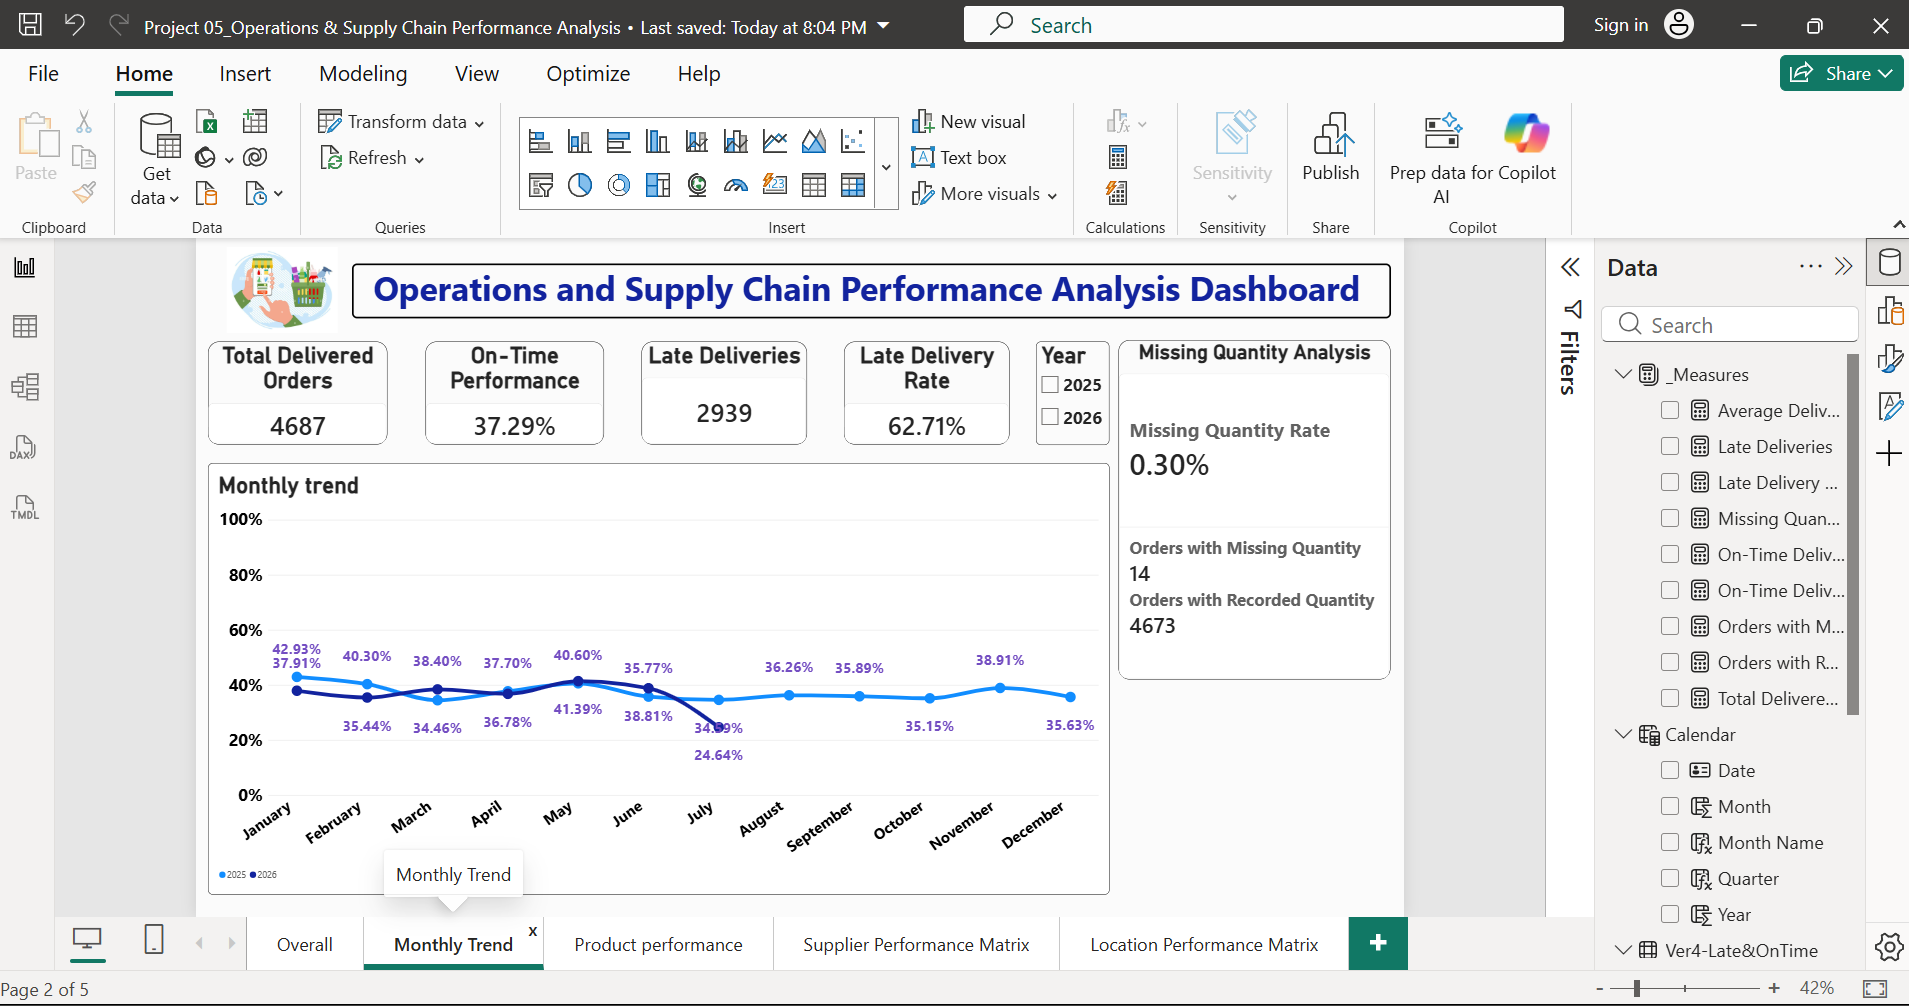

The dashboard page shown, as its layout file describes it:
{"tool":"powerbi","page":{"name":"Monthly Trend","canvas":[1920,1080],"ordinal":1},"visuals":[{"type":"cardVisual","title":"Total Delivered Orders","fields":{"Data":["_Measures.Total Delivered Orders"]},"box":[18.8,164.1,285.4,164.1],"z":0},{"type":"cardVisual","title":"On-Time Performance","fields":{"Data":["_Measures.On-Time Delivery Rate"]},"box":[364.1,164.6,283.7,164.1],"z":1000},{"type":"cardVisual","title":"Late Deliveries","fields":{"Data":["_Measures.Late Deliveries"]},"box":[707.7,164.6,263.2,164.1],"z":2000},{"type":"lineChart","title":"Monthly trend","fields":{"Category":["Calendar.Month Name"],"Series":["Calendar.Year"],"Y":["_Measures.On-Time Delivery Rate"]},"box":[18.2,358.5,1433.9,686.6],"z":6000},{"type":"cardVisual","title":"Missing Quantity Analysis","fields":{"Data":["_Measures.Missing Quantity Rate"]},"box":[1467.9,162.3,432.3,540],"z":7000},{"type":"slicer","fields":{"Values":["Calendar.Year"]},"box":[1336.1,164.6,116.9,164.6],"z":8000},{"type":"textbox","box":[247.8,41,1652.5,87.2],"z":9000},{"type":"image","box":[25.6,13.7,222.2,136.7],"z":10000},{"type":"cardVisual","title":"Late Delivery Rate","fields":{"Data":["_Measures.Late Delivery Rate"]},"box":[1030.7,164.6,263.2,164.1],"z":11000}]}

Visuals, with their boxes on the page's 1920x1080 design canvas (x1, y1, x2, y2). These are canvas units, not pixel positions in the 1909x1006 screenshot, which may show the page scaled, cropped or inside an application window:
"Total Delivered Orders" cardVisual: l=19, t=164, r=304, b=328
"On-Time Performance" cardVisual: l=364, t=165, r=648, b=329
"Late Deliveries" cardVisual: l=708, t=165, r=971, b=329
"Monthly trend" lineChart: l=18, t=358, r=1452, b=1045
"Missing Quantity Analysis" cardVisual: l=1468, t=162, r=1900, b=702
slicer - Calendar.Year: l=1336, t=165, r=1453, b=329
textbox: l=248, t=41, r=1900, b=128
image: l=26, t=14, r=248, b=150
"Late Delivery Rate" cardVisual: l=1031, t=165, r=1294, b=329
